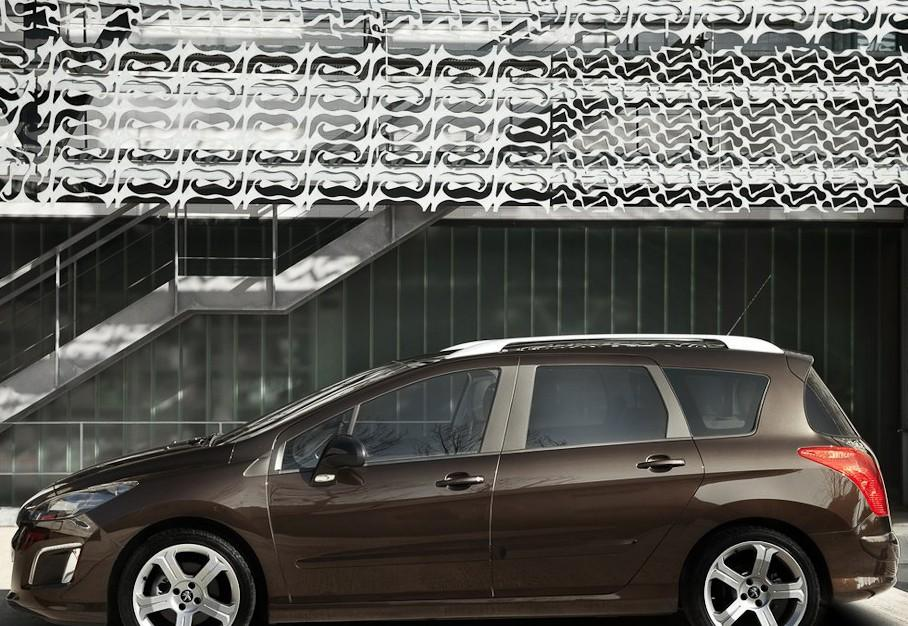Wagon: (7, 333, 899, 626)
